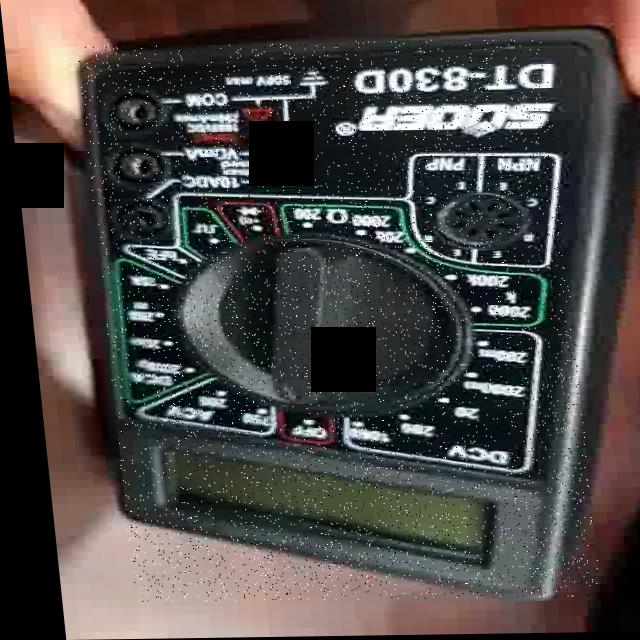multimeter: (76, 39, 588, 603)
